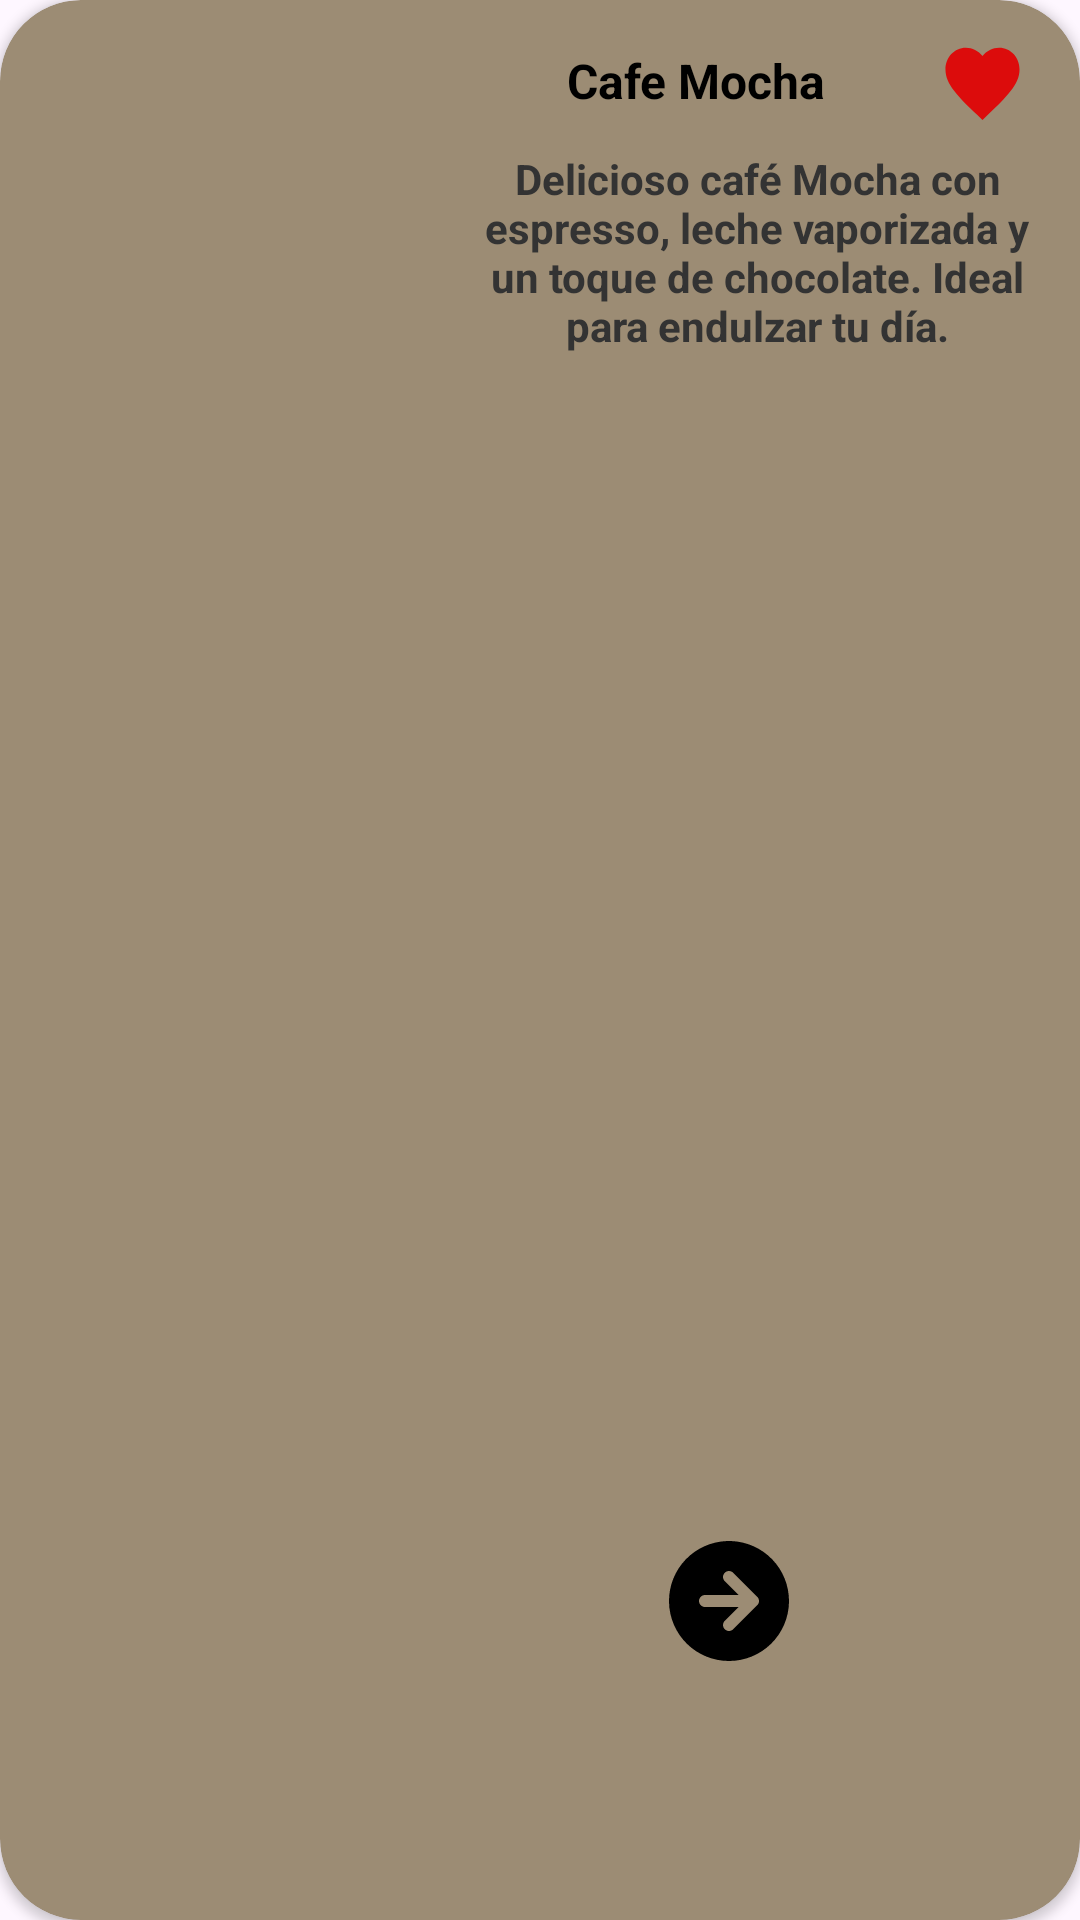

Named icons in this screenshot (1080 x 1920) and their centers, [x,y]:
favourites: [982,83]
visualizar producto: [729,1601]
